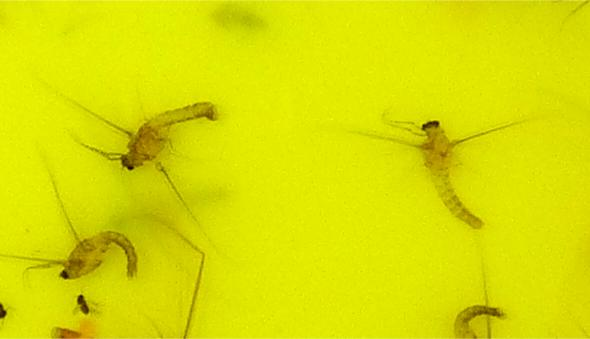Brachycera: (75, 291, 91, 316)
Ephemeroptera: (410, 106, 490, 239), (100, 100, 218, 179), (58, 225, 140, 284)
